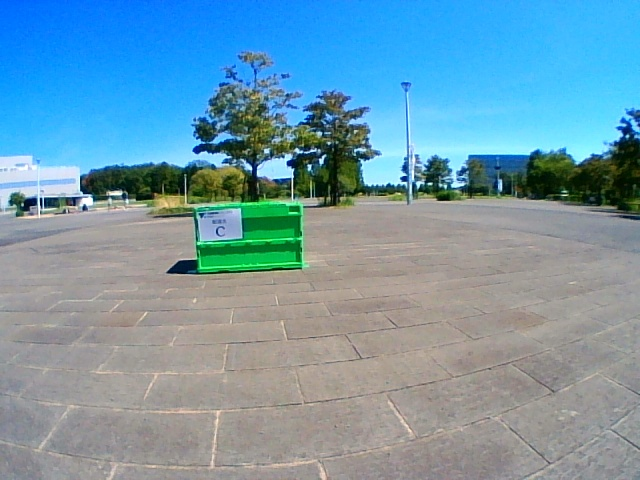green_box: (194, 202, 304, 273)
tag_c: (201, 211, 240, 239)
